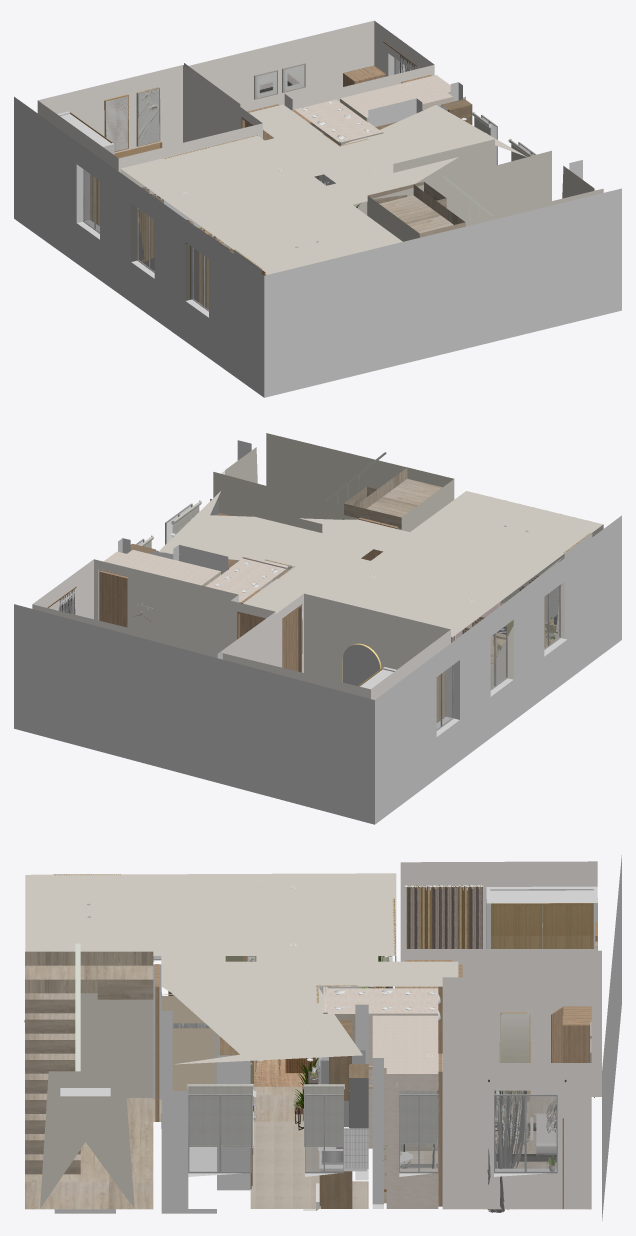
Rendered from burgos-floor-1.glb.
3 views of the same model, one above another, from view 1: azimuth 30°, elevation 25°; view 2: azimuth 150°, elevation 25°; view 3: azimuth 270°, elevation 25° (orthographic). The views are drawn at different scales.
Parts seen in each view (by area): view 1: 3DGeom-3981, 3DGeom-3982, 3DGeom-4002, 3DGeom-3983, 3DGeom-3988, 3DGeom-3996, 3DGeom-48.054, 3DGeom-6393, 3DGeom-8.003, 3DGeom-3987, 3DGeom-485.003, 3DGeom-3998; view 2: 3DGeom-3981, 3DGeom-3982, 3DGeom-4002, 3DGeom-3983, 3DGeom-485.003, 3DGeom-3996, 3DGeom-3988, 3DGeom-94.003, 3DGeom-3987, 3DGeom-3993, 3DGeom-48.054; view 3: 3DGeom-3982, 3DGeom-4002, 3DGeom-3996, 3DGeom-3981, 3DGeom-3988, 3DGeom-3983, 3DGeom-674.002, 3DGeom-3979, 3DGeom-6418, 3DGeom-485.003, 3DGeom-48.059, 3DGeom-4001 (+12 smaller).
Boxes of the visible parts, x1,y1,x2,y2 form: 3DGeom-3981: (14,53,621,397); 3DGeom-3982: (120,104,603,302); 3DGeom-4002: (37,20,434,172); 3DGeom-3983: (293,75,465,183); 3DGeom-3988: (84,59,534,309); 3DGeom-3996: (368,182,465,237); 3DGeom-48.054: (90,174,208,309); 3DGeom-6393: (138,89,159,145); 3DGeom-8.003: (106,96,128,151); 3DGeom-3987: (83,58,536,311); 3DGeom-485.003: (241,66,431,215); 3DGeom-3998: (375,99,472,129); 3DGeom-3981: (14,440,621,824); 3DGeom-3982: (158,433,602,688); 3DGeom-4002: (32,559,450,699); 3DGeom-3983: (103,549,287,602); 3DGeom-485.003: (99,517,398,672); 3DGeom-3996: (302,467,547,672); 3DGeom-3988: (56,506,559,728); 3DGeom-94.003: (343,644,379,685); 3DGeom-3987: (65,503,560,730); 3DGeom-3993: (501,524,603,621); 3DGeom-48.054: (436,586,545,722); 3DGeom-3982: (25,873,458,1208); 3DGeom-4002: (400,861,601,1208); 3DGeom-3996: (25,951,591,1209); 3DGeom-3981: (54,855,621,1220); 3DGeom-3988: (153,956,556,1172); 3DGeom-3983: (323,986,442,1208); 3DGeom-674.002: (188,1084,437,1146); 3DGeom-3979: (250,1012,368,1208); 3DGeom-6418: (491,903,593,948); 3DGeom-485.003: (155,960,591,1208); 3DGeom-48.059: (169,886,482,995); 3DGeom-4001: (161,996,213,1090).
Size of the model in its own units: 9.27 by 3.76 by 10.92.
Materials: 402 (264 with a texture image).
